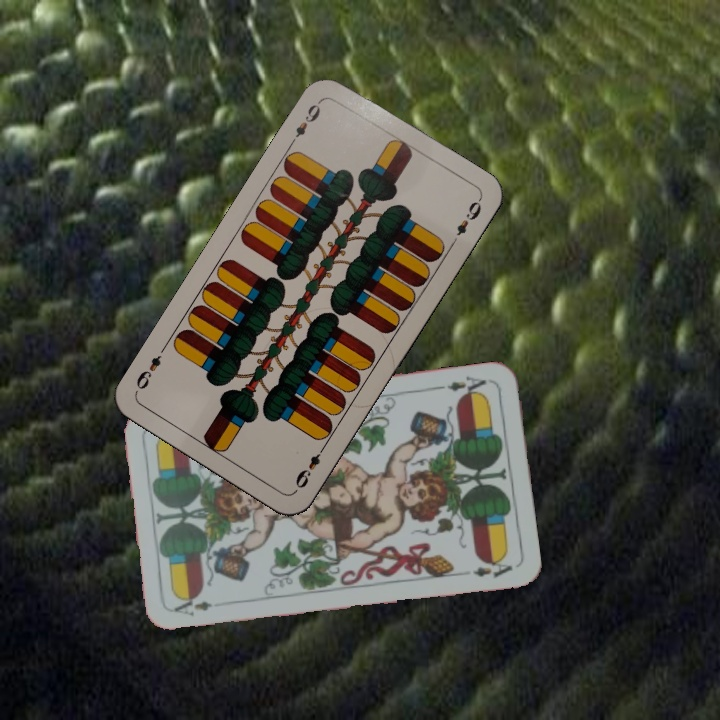E9: (286, 95, 325, 148), (291, 441, 329, 494)
EA: (434, 372, 489, 400), (170, 591, 215, 619)
